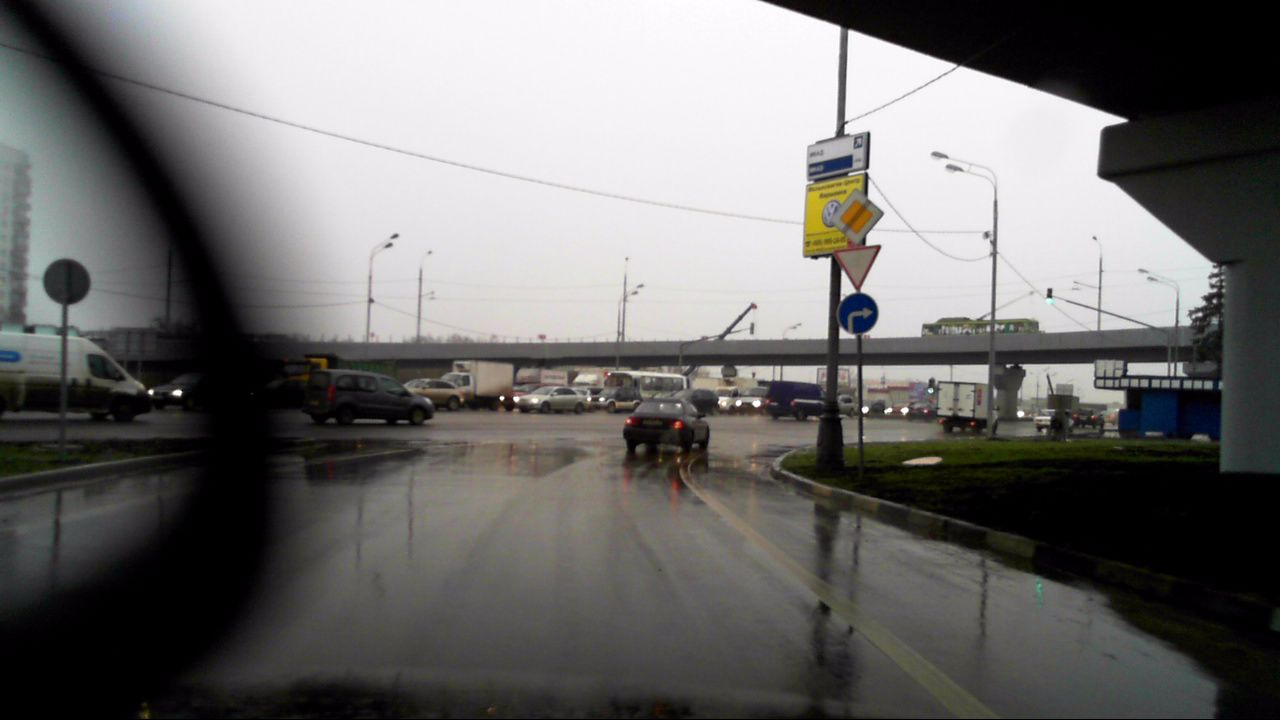main road: (833, 191, 885, 245)
